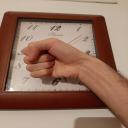Fist: (20, 33, 84, 86)
